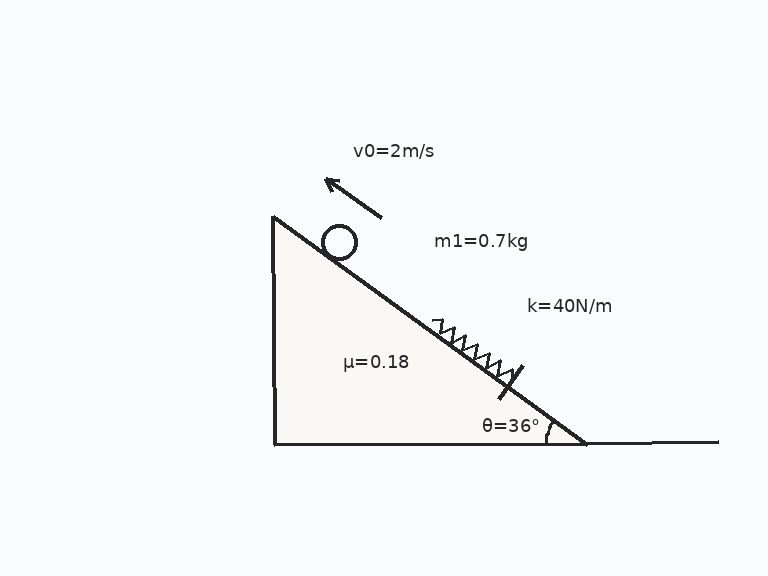ball: (319, 222, 359, 262)
ramp: (272, 214, 588, 445)
spring: (430, 317, 515, 381)
